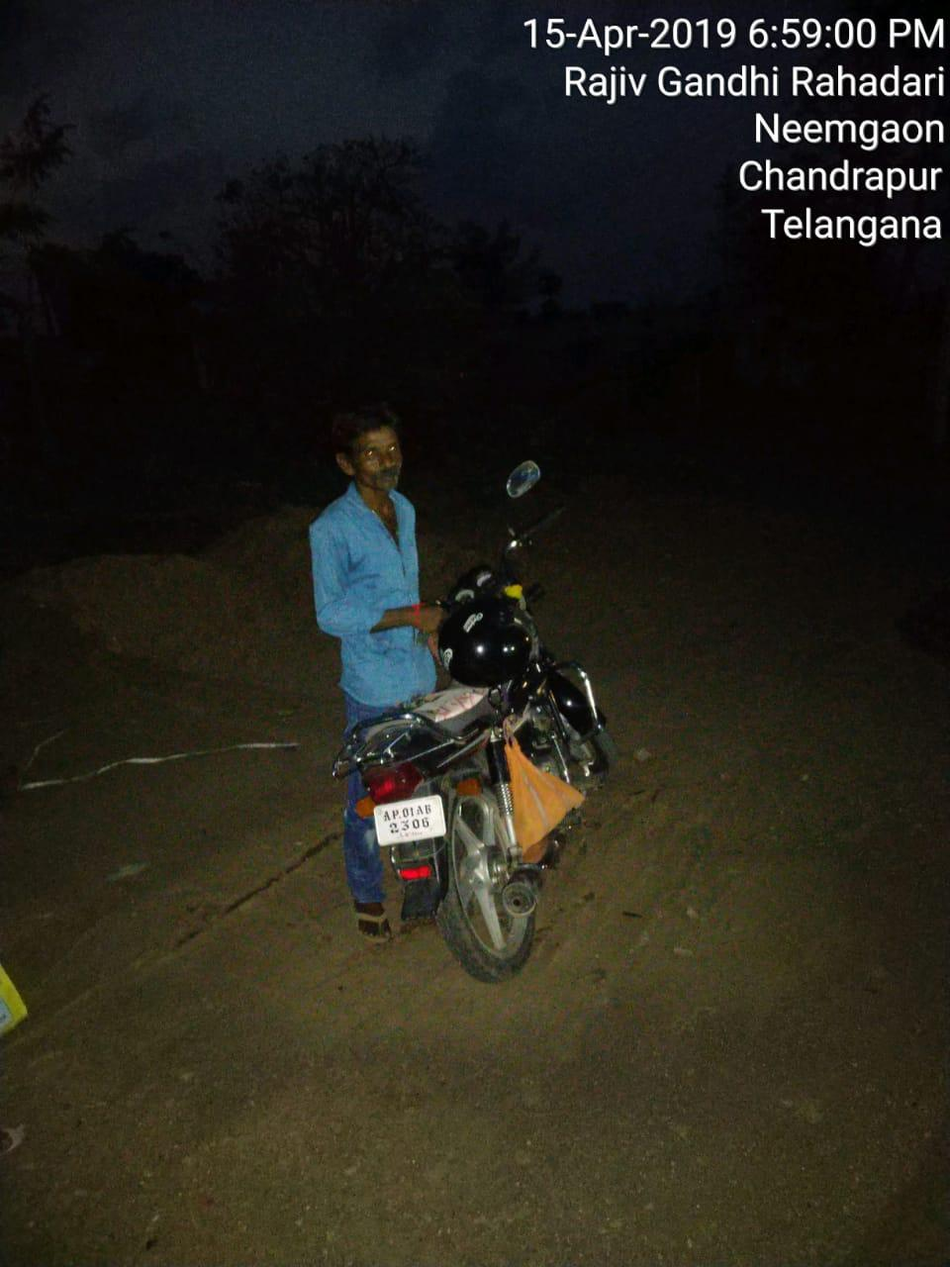plate: (349, 777, 463, 871)
